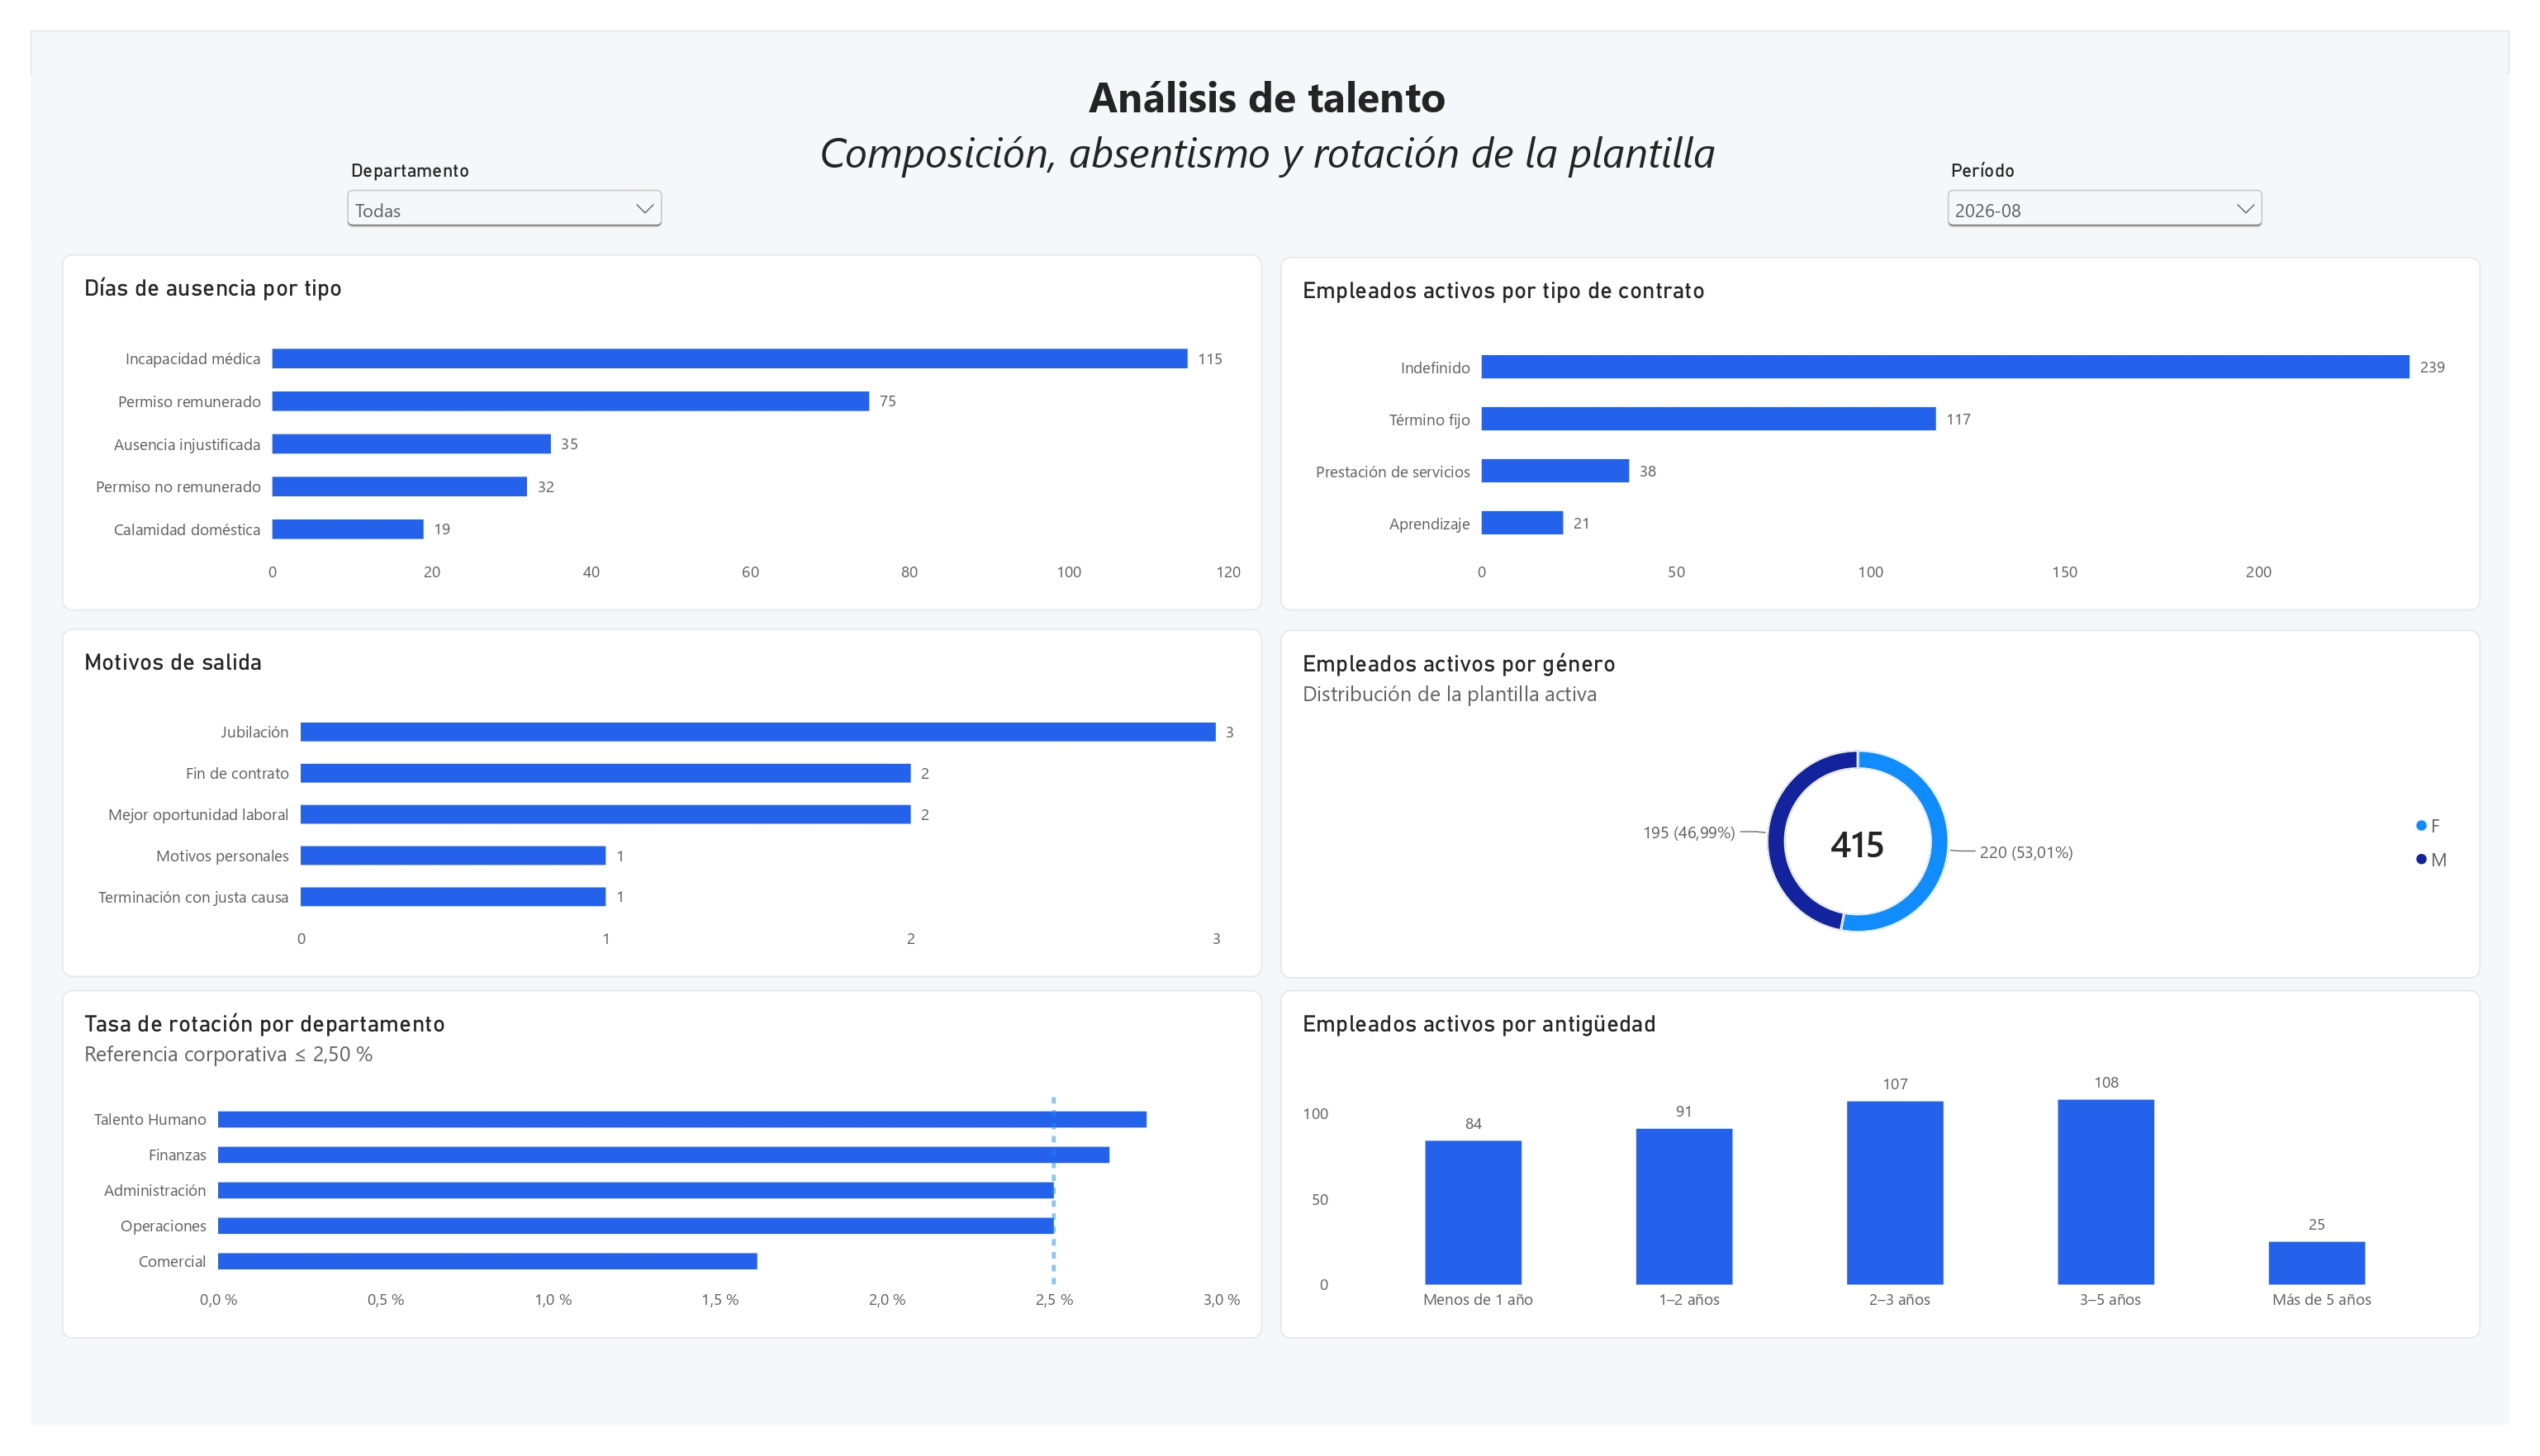

Layout of this report page (visuals, bound fields, positions):
{"tool":"powerbi","page":{"name":"Análisis de talento","canvas":[1920,1080],"ordinal":1},"visuals":[{"type":"textbox","box":[10,28,1896,116],"z":0},{"type":"barChart","title":"Días de ausencia por tipo","fields":{"Category":["AbsencesTable.absence_type"],"Y":["_Measures.Absent Workdays"]},"box":[23.6,173.2,930,276],"z":1000},{"type":"barChart","title":"Empleados activos por tipo de contrato","fields":{"Category":["ContractsTable.contract_type"],"Y":["_Measures.Headcount"]},"box":[967.6,175.2,930,274],"z":2000},{"type":"barChart","title":"Motivos de salida","fields":{"Category":["ContractsTable.termination_reason"],"Y":["_Measures.Terminations"]},"box":[23.6,463.2,930,270],"z":3000},{"type":"donutChart","title":"Empleados activos por género","fields":{"Category":["EmployeesTable.gender"],"Y":["_Measures.Headcount"]},"box":[968,464,930,270],"z":4000},{"type":"slicer","fields":{"Values":["DepartmentsTable.department"]},"box":[240,100,254,82],"z":5000},{"type":"slicer","fields":{"Values":["CalendarTable.year_month"]},"box":[1480,100,254,76],"z":6000},{"type":"barChart","title":"Tasa de rotación por departamento","fields":{"Category":["DepartmentsTable.department"],"Y":["_Measures.Turnover Rate"]},"box":[24,743,930,270],"z":7000},{"type":"columnChart","title":"Empleados activos por antigüedad","fields":{"Category":["TenureRanges.Range"],"Y":["_Measures.Active Employees by Tenure"]},"box":[968,743,930,270],"z":7001}]}

Visuals, with their boxes on the page's 1920x1080 design canvas (x1, y1, x2, y2). These are canvas units, not pixel positions in the 2540x1456 screenshot, which may show the page scaled, cropped or inside an application window:
textbox: <region>10, 28, 1906, 144</region>
"Días de ausencia por tipo" barChart: <region>24, 173, 954, 449</region>
"Empleados activos por tipo de contrato" barChart: <region>968, 175, 1898, 449</region>
"Motivos de salida" barChart: <region>24, 463, 954, 733</region>
"Empleados activos por género" donutChart: <region>968, 464, 1898, 734</region>
slicer - DepartmentsTable.department: <region>240, 100, 494, 182</region>
slicer - CalendarTable.year_month: <region>1480, 100, 1734, 176</region>
"Tasa de rotación por departamento" barChart: <region>24, 743, 954, 1013</region>
"Empleados activos por antigüedad" columnChart: <region>968, 743, 1898, 1013</region>
